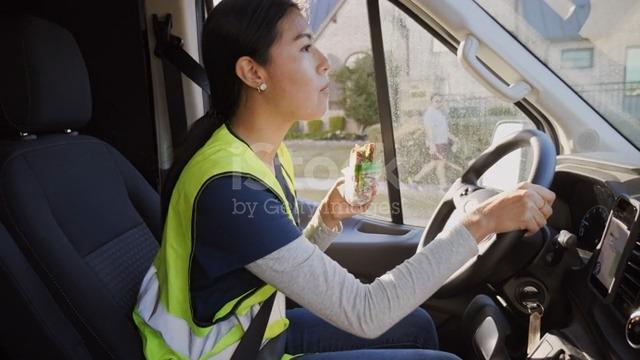Eating: (190, 2, 395, 229)
